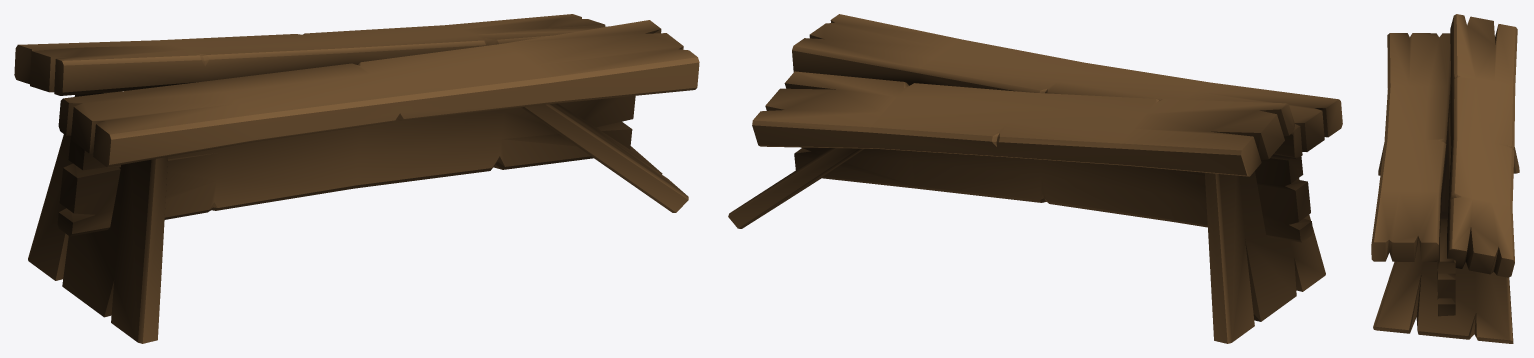
Rendered from obj_bench_broken.FBX.
The picture shows the model from 3 angles, left to right: view 1: azimuth 30°, elevation 25°; view 2: azimuth 150°, elevation 25°; view 3: azimuth 270°, elevation 25°; orthographic projection. The views are drawn at different scales.
Parts seen in each view (by area): view 1: obj_bench_broken; view 2: obj_bench_broken; view 3: obj_bench_broken.
Boxes of the visible parts, left/top/right/bottom form: obj_bench_broken: left=14, top=14, right=699, bottom=343; obj_bench_broken: left=728, top=14, right=1342, bottom=343; obj_bench_broken: left=1371, top=14, right=1519, bottom=343.
Size of the model in its own units: 3.45 by 1.38 by 1.19.
